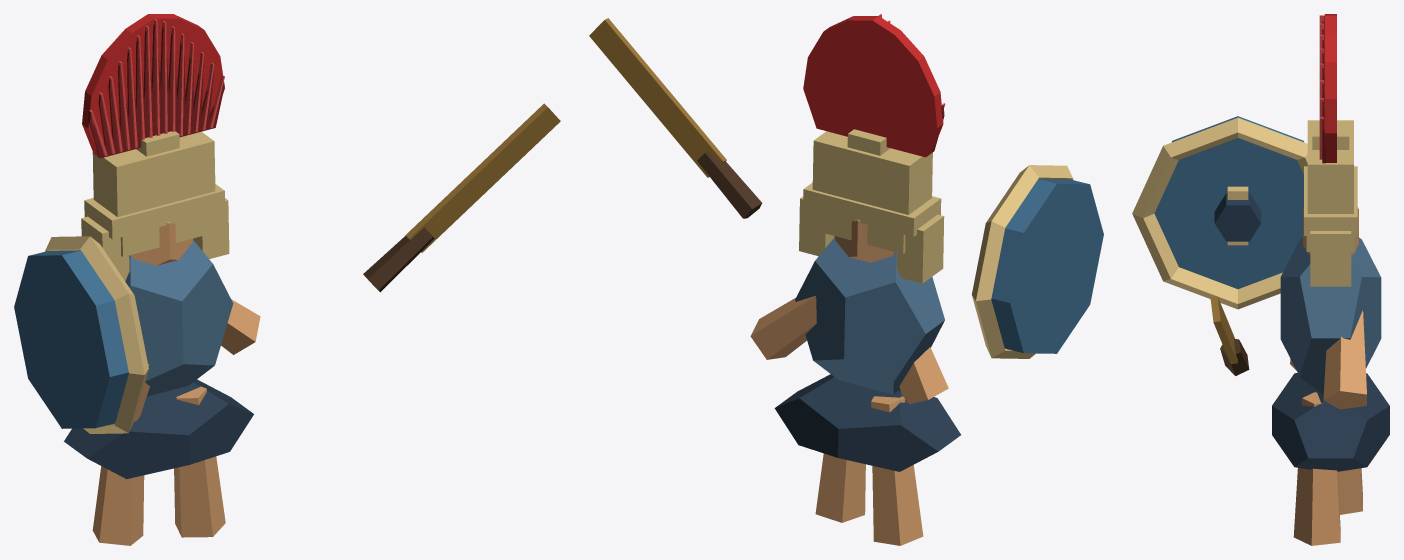
Rendered from romanSoldier_gladius_red.glb.
3 renders of one model, left to right at view 1: azimuth 30°, elevation 25°; view 2: azimuth 150°, elevation 25°; view 3: azimuth 270°, elevation 25°, orthographic. The views are drawn at different scales.
Parts seen in each view (by area): view 1: n33, soldier-helm, n3, n5, soldier-crest, soldier-crest-feathers, soldier-crest-stems, n35, n53, n24, n27, n51 (+2 smaller); view 2: soldier-helm, n33, n3, soldier-crest, n5, n53, n35, n27, n24, n21, n51, n18 (+1 smaller); view 3: n33, n3, n35, n5, soldier-helm, n24, n21, soldier-crest, shield-boss, n27, n53, soldier-crest-stems (+3 smaller).
Part boxes in pixels (box(x1,y1,x2,y2)): n33: box(14, 250, 128, 428); soldier-helm: box(81, 131, 229, 280); n3: box(125, 240, 233, 396); n5: box(64, 379, 253, 479); soldier-crest: box(82, 14, 224, 156); soldier-crest-feathers: box(88, 24, 224, 158); soldier-crest-stems: box(89, 19, 224, 156); n35: box(45, 236, 148, 433); n53: box(405, 103, 560, 252); n24: box(174, 386, 225, 537); n27: box(92, 466, 144, 545); n51: box(363, 227, 434, 292); soldier-helm: box(799, 129, 944, 283); n33: box(991, 179, 1103, 353); n3: box(795, 237, 944, 394); soldier-crest: box(803, 16, 943, 157); n5: box(774, 374, 960, 471); n53: box(589, 18, 726, 177); n35: box(971, 165, 1073, 358); n27: box(871, 396, 923, 545); n24: box(815, 453, 865, 522); n21: box(750, 295, 816, 359); n51: box(697, 150, 762, 218); n18: box(899, 347, 948, 404); n33: box(1154, 116, 1303, 288); n3: box(1280, 237, 1381, 394); n35: box(1132, 117, 1307, 309); n5: box(1272, 373, 1389, 471); soldier-helm: box(1304, 120, 1357, 286); n24: box(1293, 392, 1340, 545); n21: box(1323, 310, 1366, 409); soldier-crest: box(1324, 14, 1336, 162); shield-boss: box(1214, 193, 1261, 241); n27: box(1338, 468, 1362, 514); n53: box(1210, 296, 1237, 364); soldier-crest-stems: box(1319, 15, 1323, 159).
Bounding box in the file's own units: 1.17 × 1.2 × 0.555.
